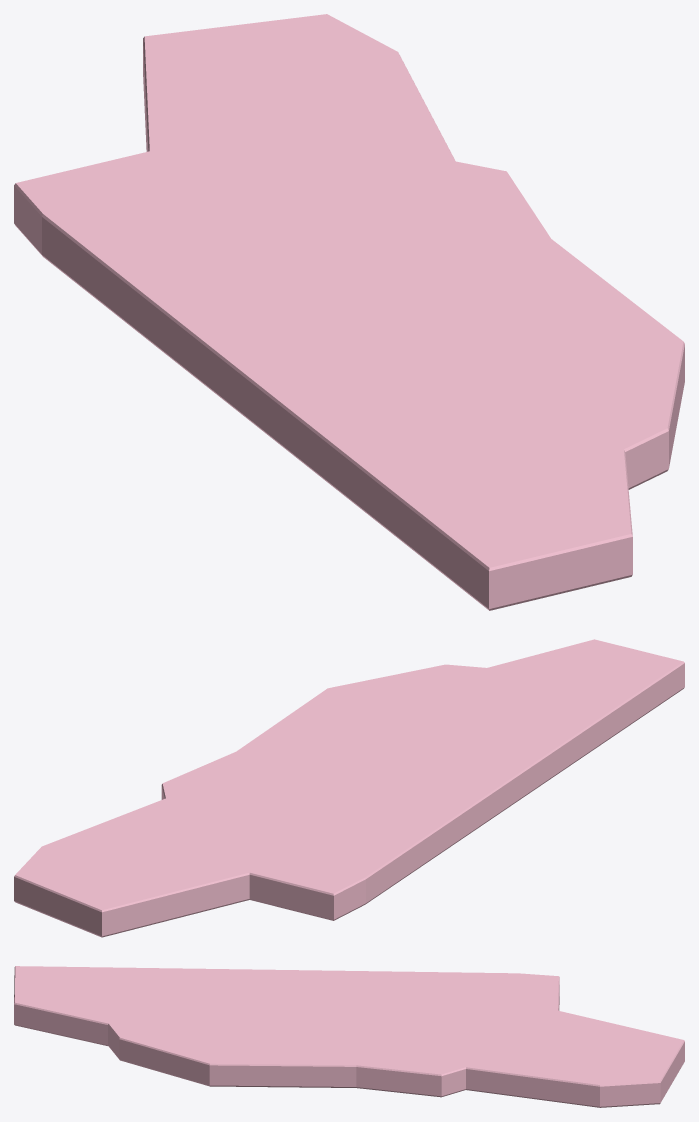
The model's file is BLZ.glb.
3 views of the same model, one above another, from view 1: azimuth 30°, elevation 25°; view 2: azimuth 150°, elevation 25°; view 3: azimuth 270°, elevation 25° (orthographic). The views are drawn at different scales.
Bounding box in the file's own units: 0.7653 × 0.068 × 1.81.
